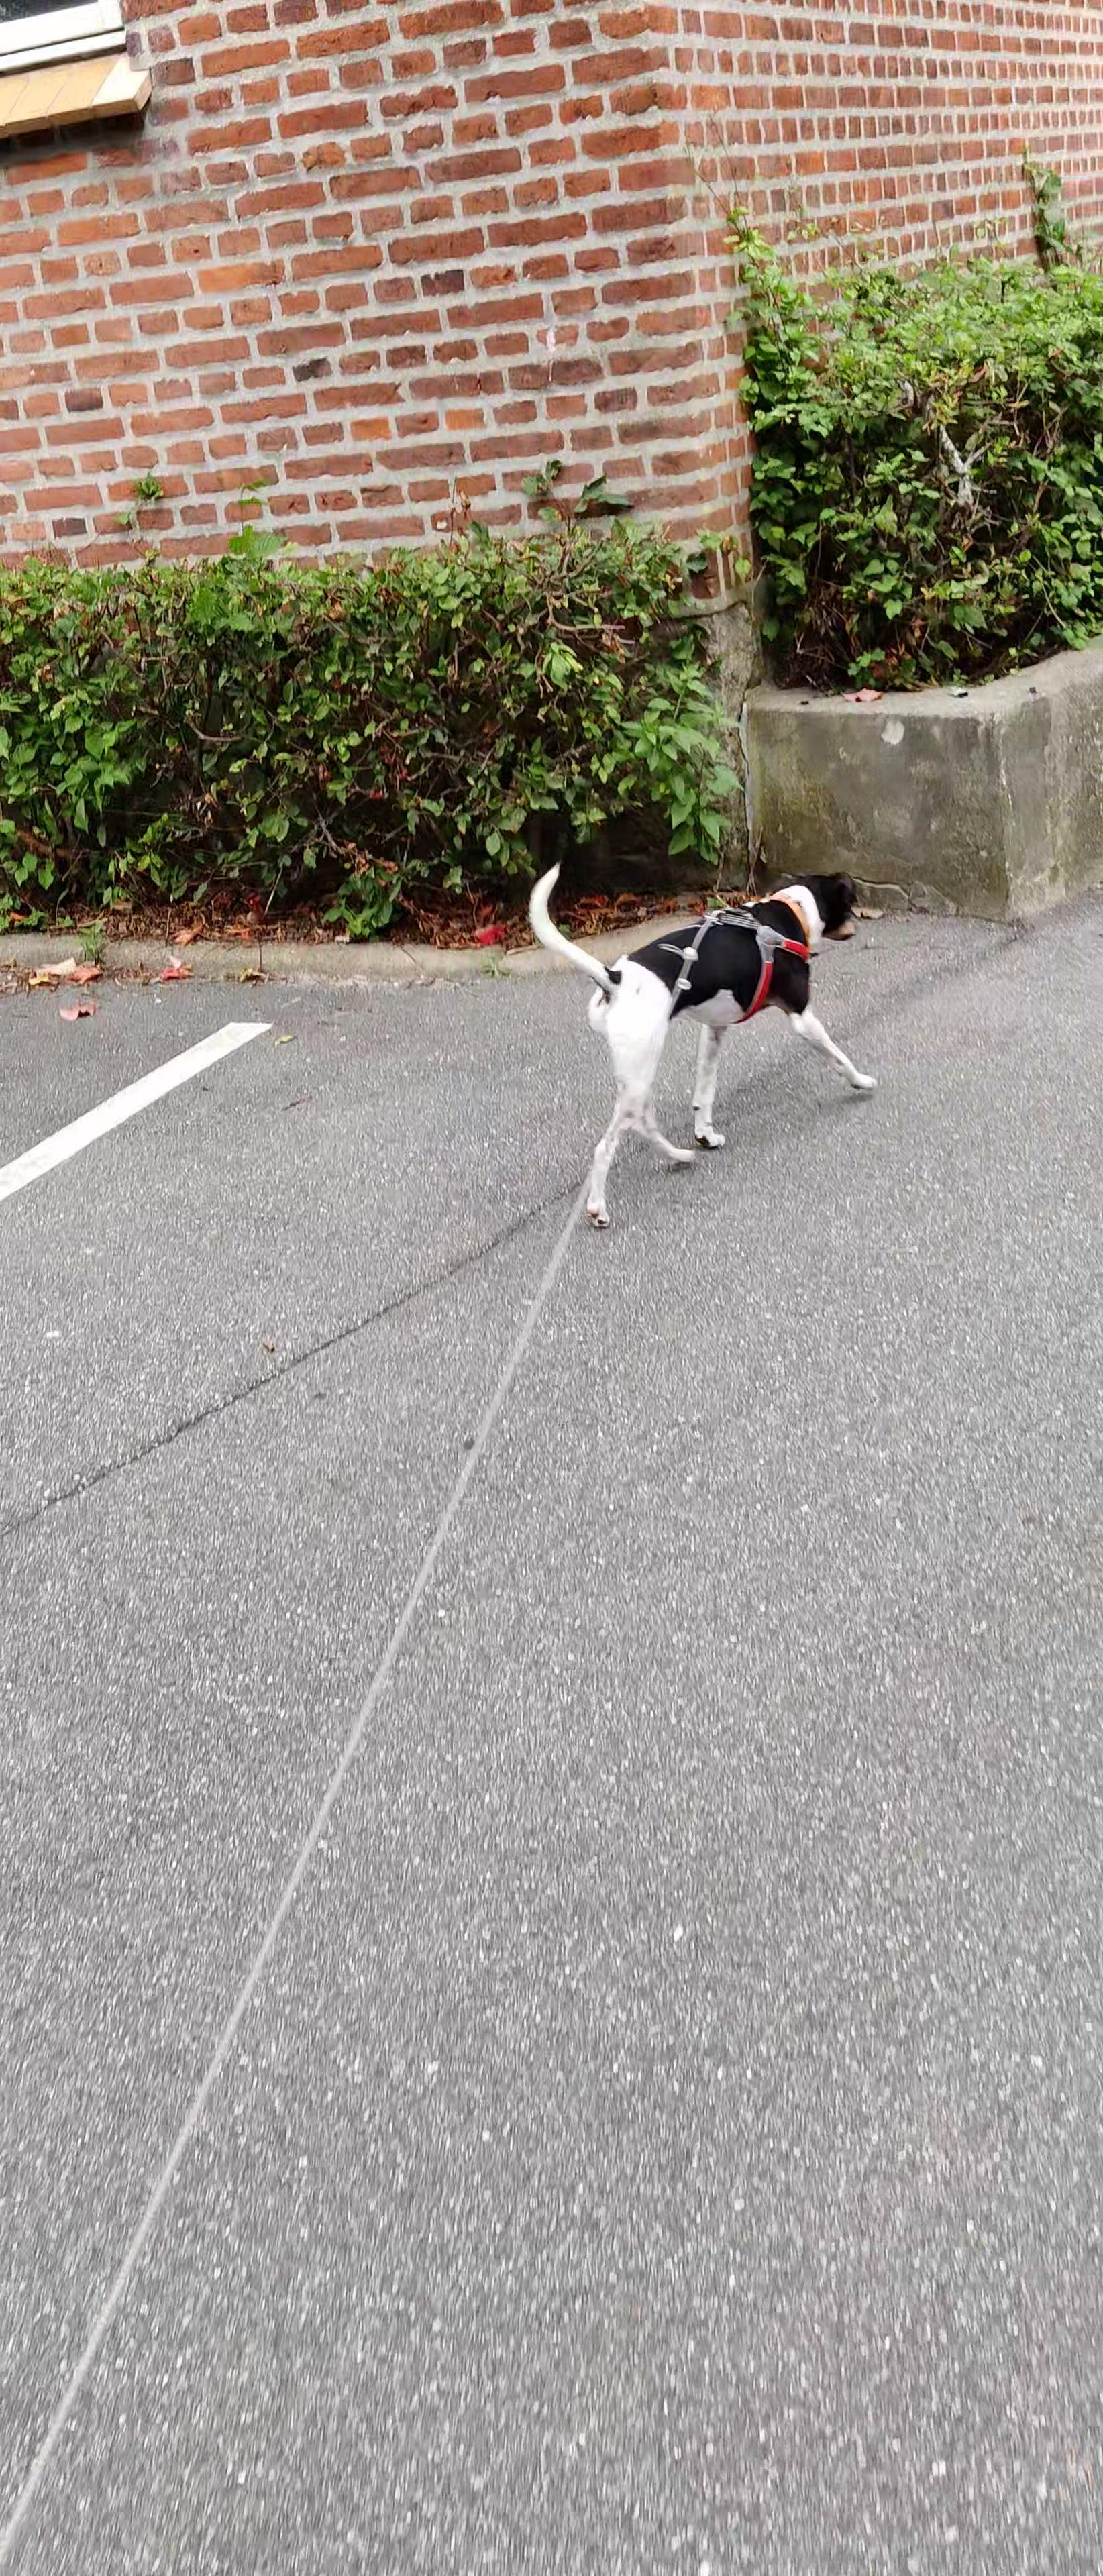Dog: (524, 859, 883, 1235)
